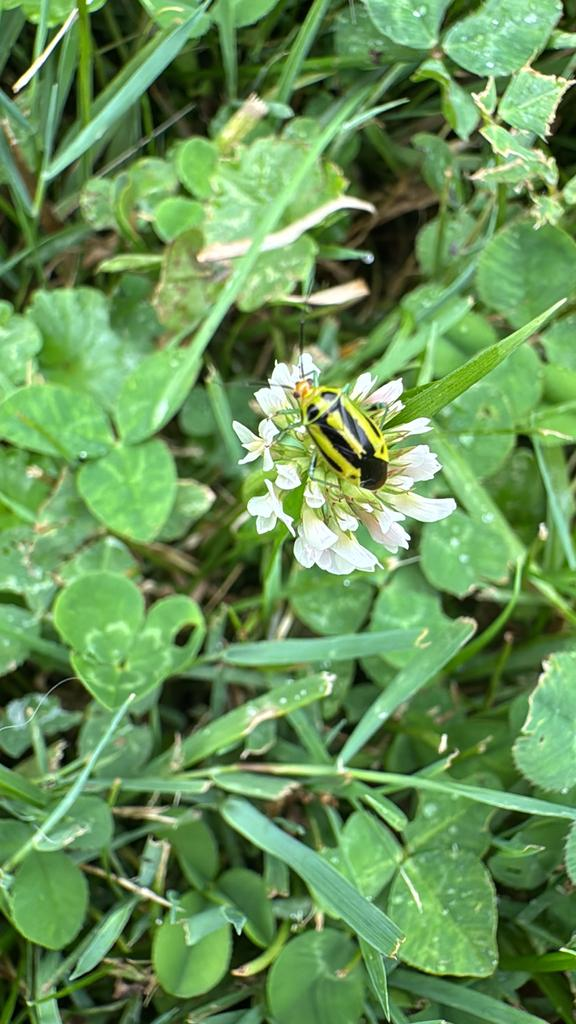plant_bugs: (223, 294, 439, 527)
